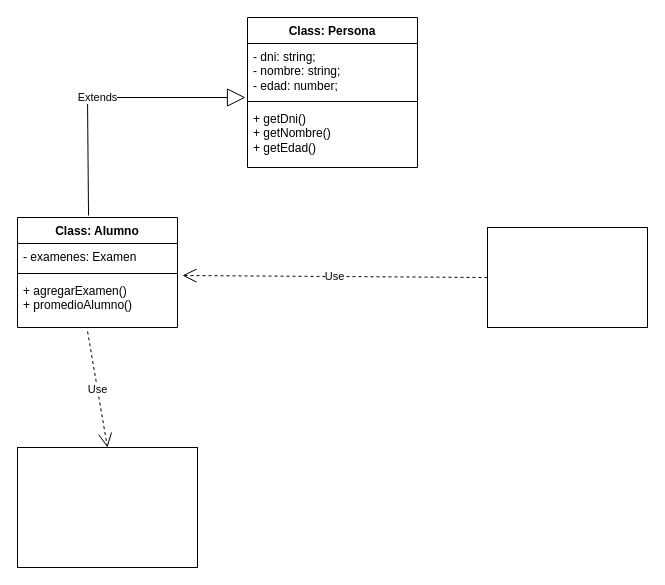
The diagram is 665 pixels wide and 585 high, and some of its shapes have lost their labels. Each missing label, with the box of its shape:
Class: Colegio - alumnos: Alumno + agregarAlumno() + promedioTotal(): (486, 226, 648, 328)
Class: Examen - materia: string; - nota: number; + getMateria() + getNota(): (16, 446, 198, 568)
